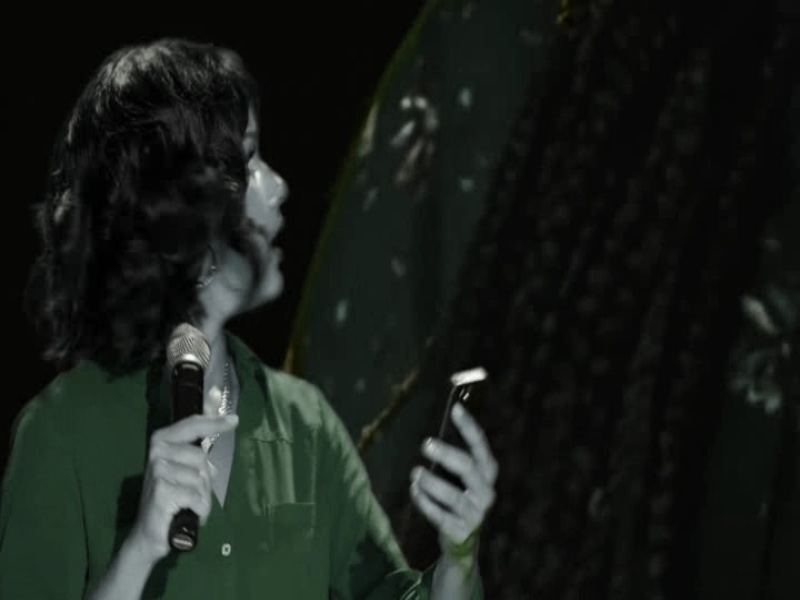TsisyArotava: (161, 43, 328, 323)
